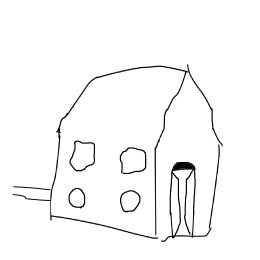door: (162, 154, 205, 241)
open_window: (62, 137, 101, 177), (115, 144, 151, 181), (115, 185, 147, 218), (63, 184, 92, 215)
single_line_roof: (50, 62, 237, 139)
wall: (149, 63, 226, 245)
